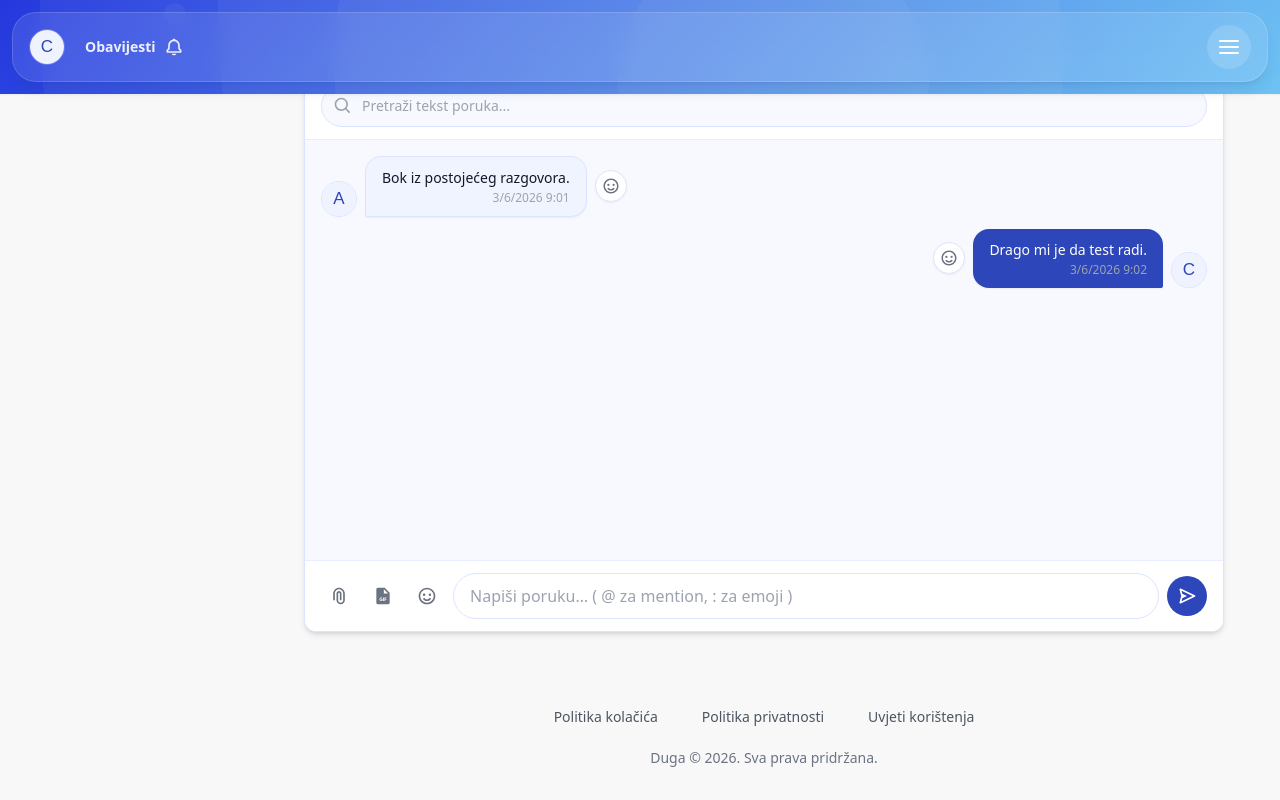
Test case: chat flows › renders an existing chat and sends a new text message through the socket
(page scrolled)
Expected: the element with test id "chat-page" is shown, [304, 0, 1224, 632]
Expected: the text "Bok iz postojećeg razgovora." is shown, [382, 167, 570, 190]
Type "Nova poruka iz Cypress testa." into the field with test id "chat-message-input" at (806, 596), box [453, 573, 1159, 619]
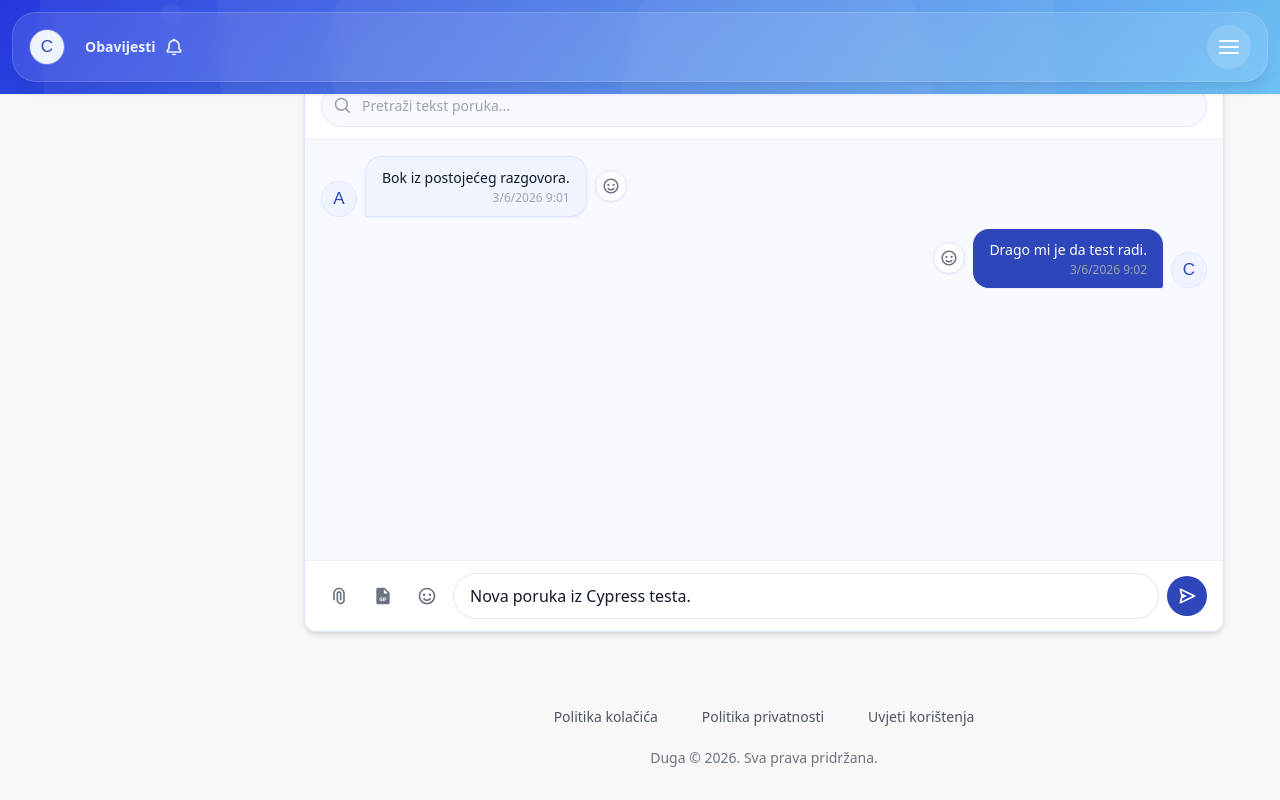
Click the button with test id "chat-message-submit" at (1187, 596), box [1167, 576, 1207, 616]
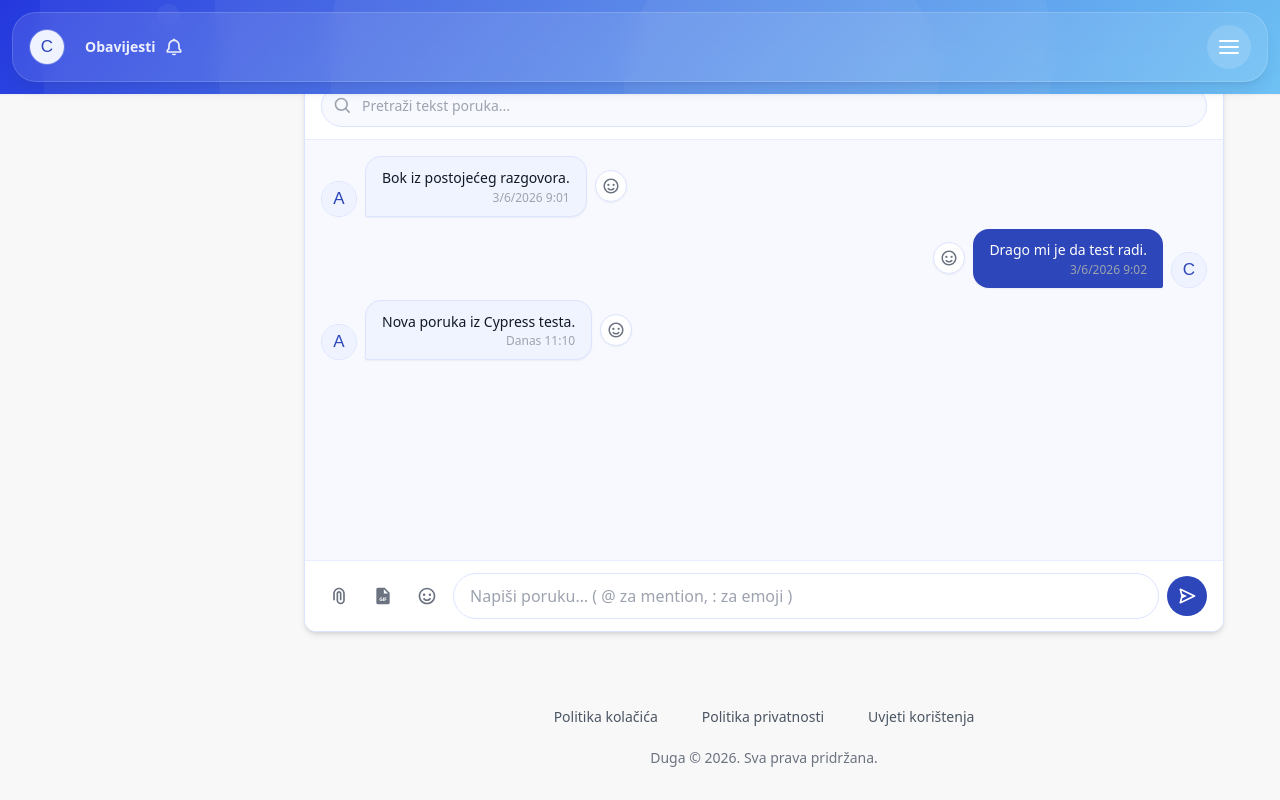
Result: the text "Nova poruka iz Cypress testa." is shown at [382, 310, 575, 333]
